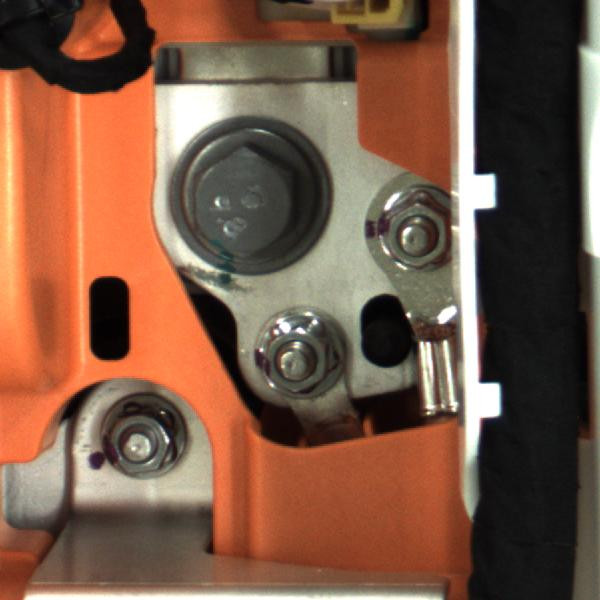nut_b: (155, 133, 334, 274)
screw_s: (238, 317, 348, 404), (361, 185, 455, 279), (99, 406, 195, 486)
